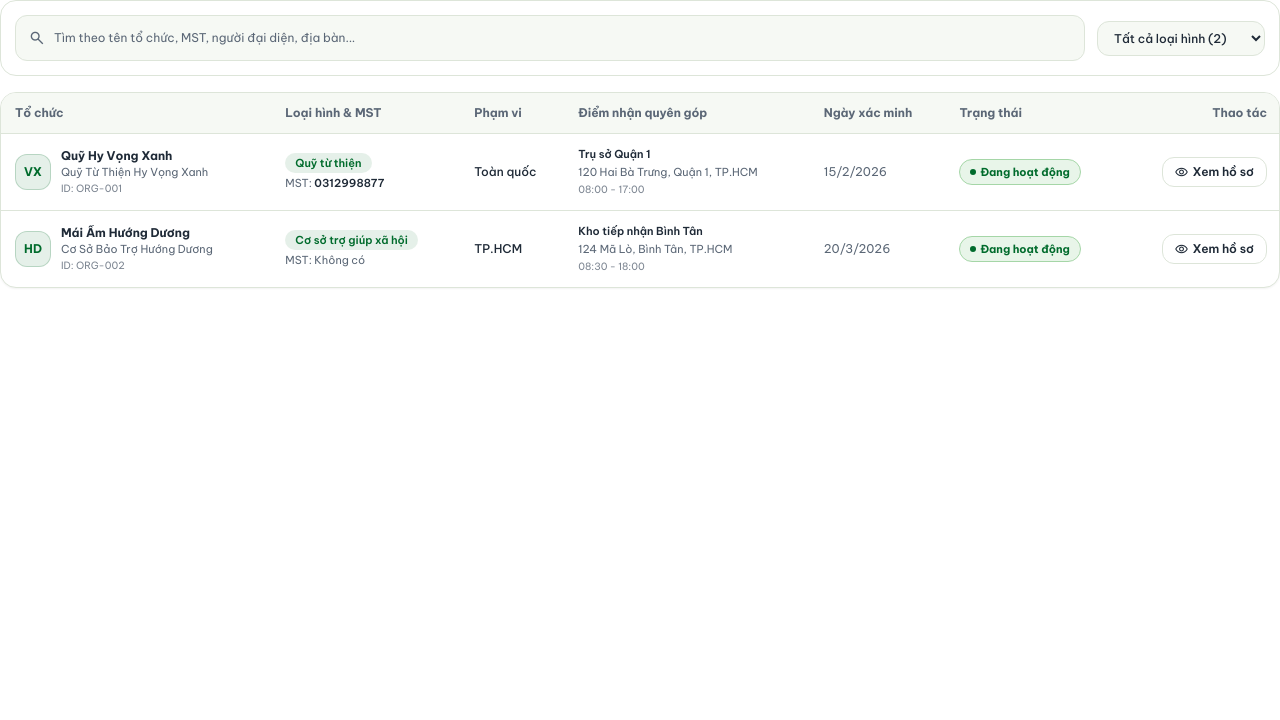
ExistingOrganizationsSection - Existing Organizations Tab › opens and closes organization detail modal on "Xem hồ sơ" click
The width and height of the screenshot is (1280, 720).
Click the 1st button "Xem hồ sơ" at (1214, 172), box x1=1162 y1=157 x2=1267 y2=187
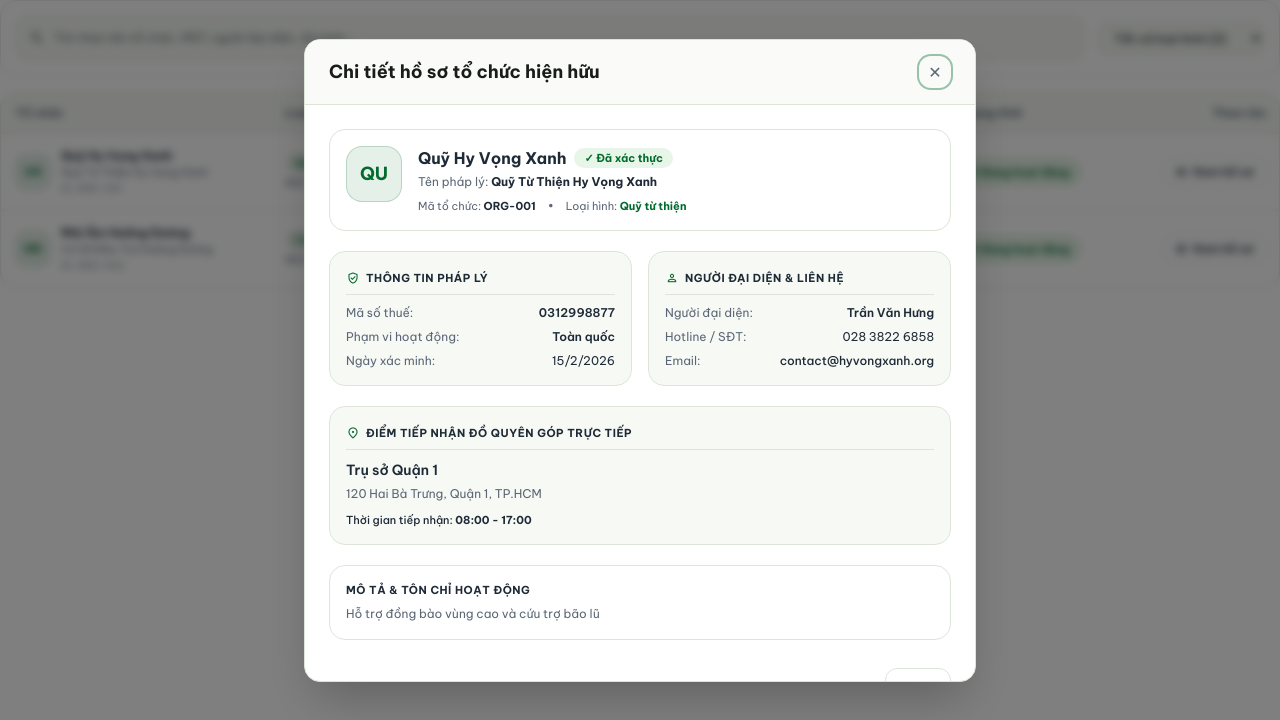
Expected: the heading "Chi tiết hồ sơ tổ chức hiện hữu" is shown, x1=329 y1=58 x2=600 y2=86
Expected: the text "Hỗ trợ đồng bào vùng cao và cứu trợ bão lũ" is shown, x1=346 y1=606 x2=600 y2=620
Expected: the text "Trần Văn Hưng" is shown, x1=847 y1=304 x2=934 y2=320
// Close button
Click the button named "Đóng" at (935, 72), box x1=919 y1=56 x2=951 y2=88
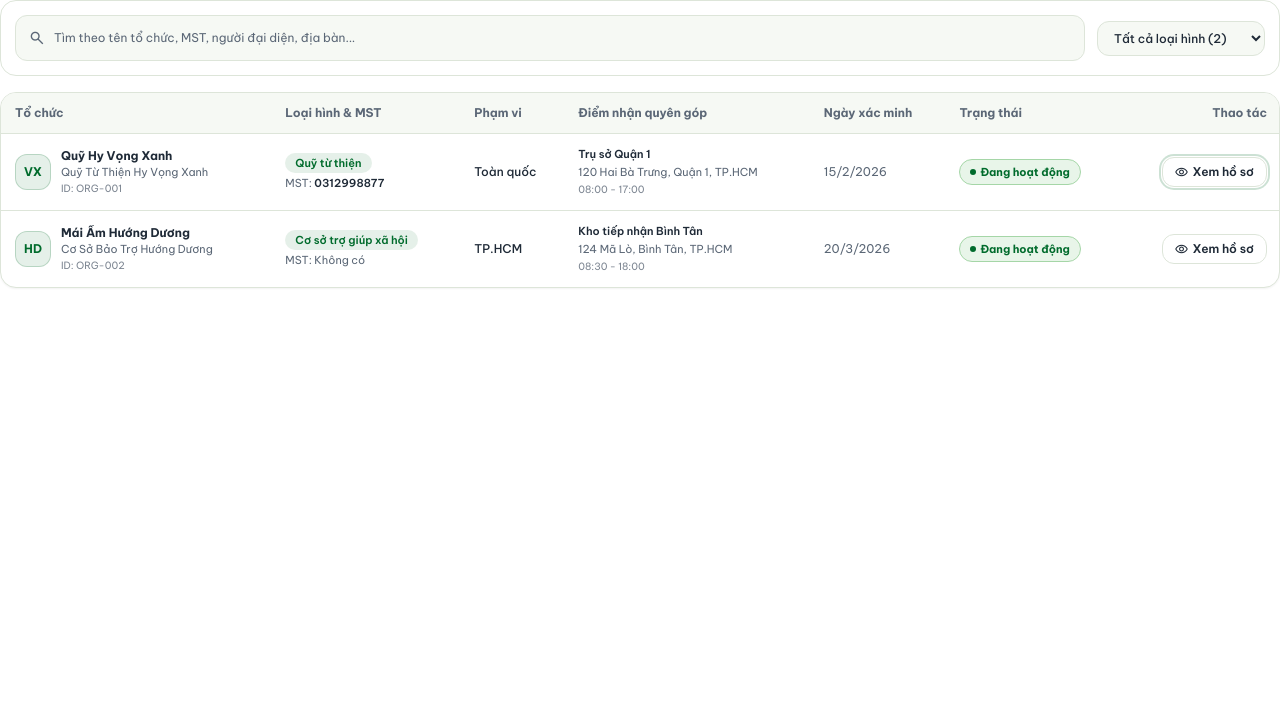
Expected: the heading "Chi tiết hồ sơ tổ chức hiện hữu" is gone
